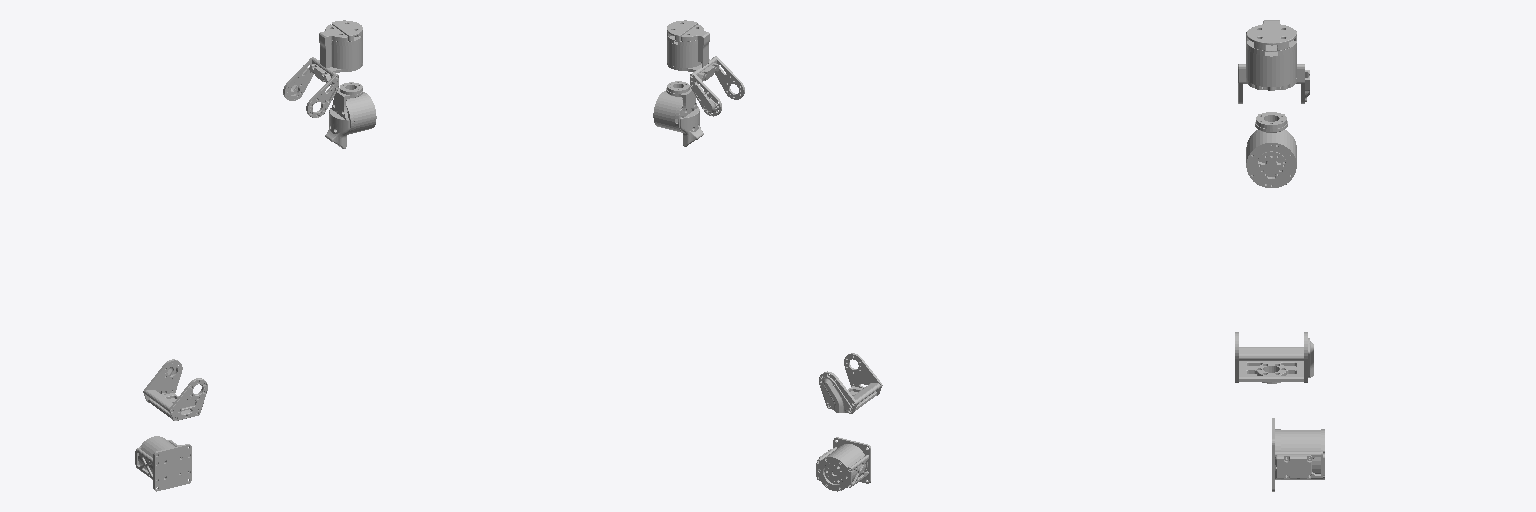
URDF robot description (follower):
<?xml version="1.0" encoding="utf-8"?>
<!-- This URDF was automatically created by SolidWorks to URDF Exporter! Originally created by [author] ([email redacted])
     Commit Version: 1.6.0-4-g7f85cfe  Build Version: 1.6.7995.38578
     For more information, please see http://wiki.ros.org/sw_urdf_exporter -->
<robot name="follower">
  <link
    name="base_link">
    <inertial>
      <origin
        xyz="-0.00067083589343116 -1.23352385933331E-05 0.0413995334110192"
        rpy="-1.57079632679 0 0" />
      <mass
        value="0.965102338827487" />
      <inertia
        ixx="0.00104727746382921"
        ixy="-9.63146274264131E-08"
        ixz="-1.40095083789266E-08"
        iyy="0.0010135042172377"
        iyz="9.28656768557766E-09"
        izz="0.00193063324275295" />
    </inertial>
    <visual>
      <origin
        xyz="0 0 0"
        rpy="-1.57079632679 0 0" />
      <geometry>
        <mesh
          filename="package://trossen_arm_description/meshes/follower/base_link.stl" />
      </geometry>
      <material
        name="">
        <color
          rgba="0.752941176470588 0.752941176470588 0.752941176470588 1" />
      </material>
    </visual>
    <collision>
      <origin
        xyz="0 0 0"
        rpy="-1.57079632679 0 0" />
      <geometry>
        <mesh
          filename="package://trossen_arm_description/meshes/follower/base_link.stl" />
      </geometry>
    </collision>
  </link>
  <link
    name="link_1">
    <inertial>
      <origin
        xyz="0.0170273604124161 0.00221903633839303 0.0486369547044152"
        rpy="0 0 0" />
      <mass
        value="0.658157485580461" />
      <inertia
        ixx="0.000461879120374945"
        ixy="7.30313154563336E-07"
        ixz="1.48450218369078E-05"
        iyy="0.000699028823099092"
        iyz="1.24638385897372E-06"
        izz="0.000518245753351821" />
    </inertial>
    <visual>
      <origin
        xyz="0 0 0"
        rpy="0 0 0" />
      <geometry>
        <mesh
          filename="package://trossen_arm_description/meshes/follower/link_1.stl" />
      </geometry>
      <material
        name="">
        <color
          rgba="0.752941176470588 0.752941176470588 0.752941176470588 1" />
      </material>
    </visual>
    <collision>
      <origin
        xyz="0 0 0"
        rpy="0 0 0" />
      <geometry>
        <mesh
          filename="package://trossen_arm_description/meshes/follower/link_1.stl" />
      </geometry>
    </collision>
  </link>
  <joint
    name="joint_0"
    type="revolute">
    <origin
      xyz="0 0 0.0963519999999996"
      rpy="0 0 0" />
    <parent
      link="base_link" />
    <child
      link="link_1" />
    <axis
      xyz="0 0 1" />
    <limit
      lower="-3.14159265359"
      upper="3.14159265359"
      effort="0"
      velocity="0" />
  </joint>
  <link
    name="link_2">
    <inertial>
      <origin
        xyz="0.00896948807389246 -0.000551447202871847 0.217173738204803"
        rpy="0 0 0" />
      <mass
        value="0.520143279290704" />
      <inertia
        ixx="0.00139939822910186"
        ixy="7.02704578368816E-09"
        ixz="-5.84588275065204E-06"
        iyy="0.00138991316090353"
        iyz="-4.0585538823093E-09"
        izz="0.00011885606315368" />
    </inertial>
    <visual>
      <origin
        xyz="0 0 0"
        rpy="0 0 0" />
      <geometry>
        <mesh
          filename="package://trossen_arm_description/meshes/follower/link_2.stl" />
      </geometry>
      <material
        name="">
        <color
          rgba="0.752941176470588 0.752941176470588 0.752941176470588 1" />
      </material>
    </visual>
    <collision>
      <origin
        xyz="0 0 0"
        rpy="0 0 0" />
      <geometry>
        <mesh
          filename="package://trossen_arm_description/meshes/follower/link_2.stl" />
      </geometry>
    </collision>
  </link>
  <joint
    name="joint_1"
    type="revolute">
    <origin
      xyz="0.0199999999999994 0 0.0570000000000001"
      rpy="0 0 0" />
    <parent
      link="link_1" />
    <child
      link="link_2" />
    <axis
      xyz="0 -1 0" />
    <limit
      lower="-2.4"
      upper="1.87"
      effort="0"
      velocity="0" />
  </joint>
  <link
    name="link_3">
    <inertial>
      <origin
        xyz="0.116840604140589 -0.00067873753567148 0.0537736076061798"
        rpy="0 0 0" />
      <mass
        value="0.303446681930296" />
      <inertia
        ixx="9.61115485046678E-05"
        ixy="-4.05930567233032E-09"
        ixz="-2.33283733883302E-05"
        iyy="0.000199643341936575"
        iyz="-7.00409767190169E-09"
        izz="0.000158700505319707" />
    </inertial>
    <visual>
      <origin
        xyz="0 0 0"
        rpy="0 0 0" />
      <geometry>
        <mesh
          filename="package://trossen_arm_description/meshes/follower/link_3.stl" />
      </geometry>
      <material
        name="">
        <color
          rgba="0.752941176470588 0.752941176470588 0.752941176470588 1" />
      </material>
    </visual>
    <collision>
      <origin
        xyz="0 0 0"
        rpy="0 0 0" />
      <geometry>
        <mesh
          filename="package://trossen_arm_description/meshes/follower/link_3.stl" />
      </geometry>
    </collision>
  </link>
  <joint
    name="joint_2"
    type="revolute">
    <origin
      xyz="0.0299999999999999 0 0.35"
      rpy="0 0 0" />
    <parent
      link="link_2" />
    <child
      link="link_3" />
    <axis
      xyz="0 -1 0" />
    <limit
      lower="-1.86"
      upper="2.28"
      effort="0"
      velocity="0" />
  </joint>
  <link
    name="link_4">
    <inertial>
      <origin
        xyz="0.0636872025032117 4.15835862107732E-05 -0.000847055499593963"
        rpy="0 0 0" />
      <mass
        value="0.211552053843195" />
      <inertia
        ixx="0.000115244428123329"
        ixy="-2.20918148593184E-08"
        ixz="8.11555403598452E-09"
        iyy="8.75465189519851E-05"
        iyz="4.01345879702496E-13"
        izz="0.000129727809308006" />
    </inertial>
    <visual>
      <origin
        xyz="0 0 0"
        rpy="0 0 0" />
      <geometry>
        <mesh
          filename="package://trossen_arm_description/meshes/follower/link_4.stl" />
      </geometry>
      <material
        name="">
        <color
          rgba="0.752941176470588 0.752941176470588 0.752941176470588 1" />
      </material>
    </visual>
    <collision>
      <origin
        xyz="0 0 0"
        rpy="0 0 0" />
      <geometry>
        <mesh
          filename="package://trossen_arm_description/meshes/follower/link_4.stl" />
      </geometry>
    </collision>
  </link>
  <joint
    name="joint_3"
    type="revolute">
    <origin
      xyz="0.180999999999999 0 0.0600000000000003"
      rpy="0 0 0" />
    <parent
      link="link_3" />
    <child
      link="link_4" />
    <axis
      xyz="0 -1 0" />
    <limit
      lower="-2.42"
      upper="2.42"
      effort="0"
      velocity="0" />
  </joint>
  <link
    name="link_5">
    <inertial>
      <origin
        xyz="0.0699270389108238 -9.06183297457613E-09 0.00129048907573015"
        rpy="0 0 0" />
      <mass
        value="0.213617631664316" />
      <inertia
        ixx="0.000129047148258766"
        ixy="1.28788669597982E-12"
        ixz="8.11487714389353E-09"
        iyy="0.000122255249245514"
        iyz="-2.20920499566926E-08"
        izz="7.53849113028835E-05" />
    </inertial>
    <visual>
      <origin
        xyz="0 0 0"
        rpy="0 0 0" />
      <geometry>
        <mesh
          filename="package://trossen_arm_description/meshes/follower/link_5.stl" />
      </geometry>
      <material
        name="">
        <color
          rgba="0.752941176470588 0.752941176470588 0.752941176470588 1" />
      </material>
    </visual>
    <collision>
      <origin
        xyz="0 0 0"
        rpy="0 0 0" />
      <geometry>
        <mesh
          filename="package://trossen_arm_description/meshes/follower/link_5.stl" />
      </geometry>
    </collision>
  </link>
  <joint
    name="joint_4"
    type="revolute">
    <origin
      xyz="0.0799999999999995 0 0.0002000000000002"
      rpy="0 0 0" />
    <parent
      link="link_4" />
    <child
      link="link_5" />
    <axis
      xyz="0 0 -1" />
    <limit
      lower="-1.93"
      upper="1.93"
      effort="0"
      velocity="0" />
  </joint>
  <link
    name="gripper">
    <inertial>
      <origin
        xyz="0.0590321096192337 -1.03587594283656E-07 -2.63925990725555E-05"
        rpy="0 0 0" />
      <mass
        value="0.3452622912697" />
      <inertia
        ixx="0.000186088707407923"
        ixy="-1.87896179853624E-13"
        ixz="8.11307191946995E-09"
        iyy="8.41597502421193E-05"
        iyz="1.04049588154111E-06"
        izz="0.000173175083578392" />
    </inertial>
    <visual>
      <origin
        xyz="0 0 0"
        rpy="0 0 0" />
      <geometry>
        <mesh
          filename="package://trossen_arm_description/meshes/follower/gripper.stl" />
      </geometry>
      <material
        name="">
        <color
          rgba="0.752941176470588 0.752941176470588 0.752941176470588 1" />
      </material>
    </visual>
    <collision>
      <origin
        xyz="0 0 0"
        rpy="0 0 0" />
      <geometry>
        <mesh
          filename="package://trossen_arm_description/meshes/follower/gripper.stl" />
      </geometry>
    </collision>
  </link>
  <joint
    name="joint_5"
    type="revolute">
    <origin
      xyz="0.103524999999999 0 0"
      rpy="0 0 0" />
    <parent
      link="link_5" />
    <child
      link="gripper" />
    <axis
      xyz="1 0 0" />
    <limit
      lower="-3.14159265359"
      upper="3.14159265359"
      effort="0"
      velocity="0" />
  </joint>
</robot>

--- Facts derived from the render (not from the file) ---
3 views of the same robot in one strip: view 1: azimuth 30°, elevation 25°; view 2: azimuth 150°, elevation 25°; view 3: azimuth 270°, elevation 25° (orthographic).
Model follower with 7 links and 6 joints (6 revolute), rooted at base_link, posed all joints at 0.
Links seen in each view (by area): view 1: link_4, base_link, link_1, link_5; view 2: link_4, base_link, link_1, link_5; view 3: link_4, link_5, link_1, base_link.
Link boxes in pixels (left/top/right/bottom): link_4: left=283, top=20, right=362, bottom=117; base_link: left=135, top=436, right=191, bottom=491; link_1: left=143, top=359, right=207, bottom=420; link_5: left=325, top=82, right=376, bottom=148; link_4: left=667, top=20, right=744, bottom=116; base_link: left=816, top=437, right=870, bottom=491; link_1: left=819, top=353, right=882, bottom=413; link_5: left=653, top=81, right=703, bottom=146; link_4: left=1238, top=20, right=1309, bottom=103; link_5: left=1246, top=112, right=1296, bottom=187; link_1: left=1235, top=332, right=1313, bottom=383; base_link: left=1272, top=418, right=1324, bottom=491.
Size in the robot's own frame: 0.3724 by 0.1016 by 0.6974 metres.
4 mesh visuals loaded from 7 distinct referenced files (4 binary STL); not drawn: 3 (reference not matched to a file when rendering).